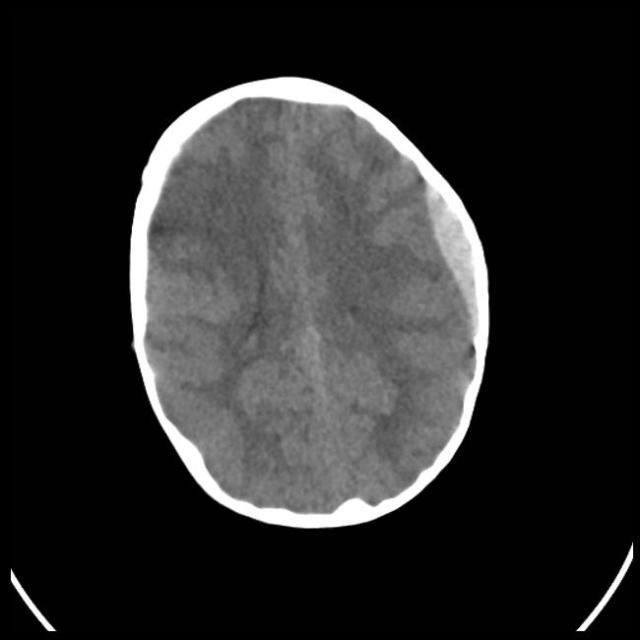lesion: (418, 168, 494, 354)
